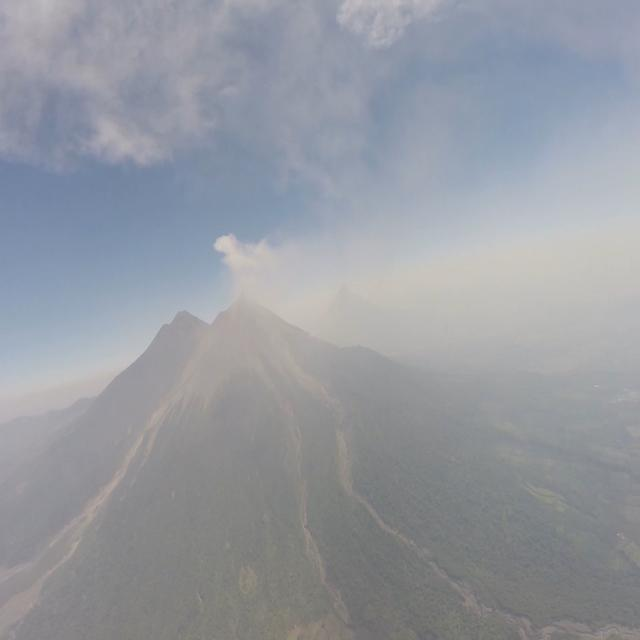Plume: (212, 230, 286, 296)
Summit: (219, 291, 275, 315)
